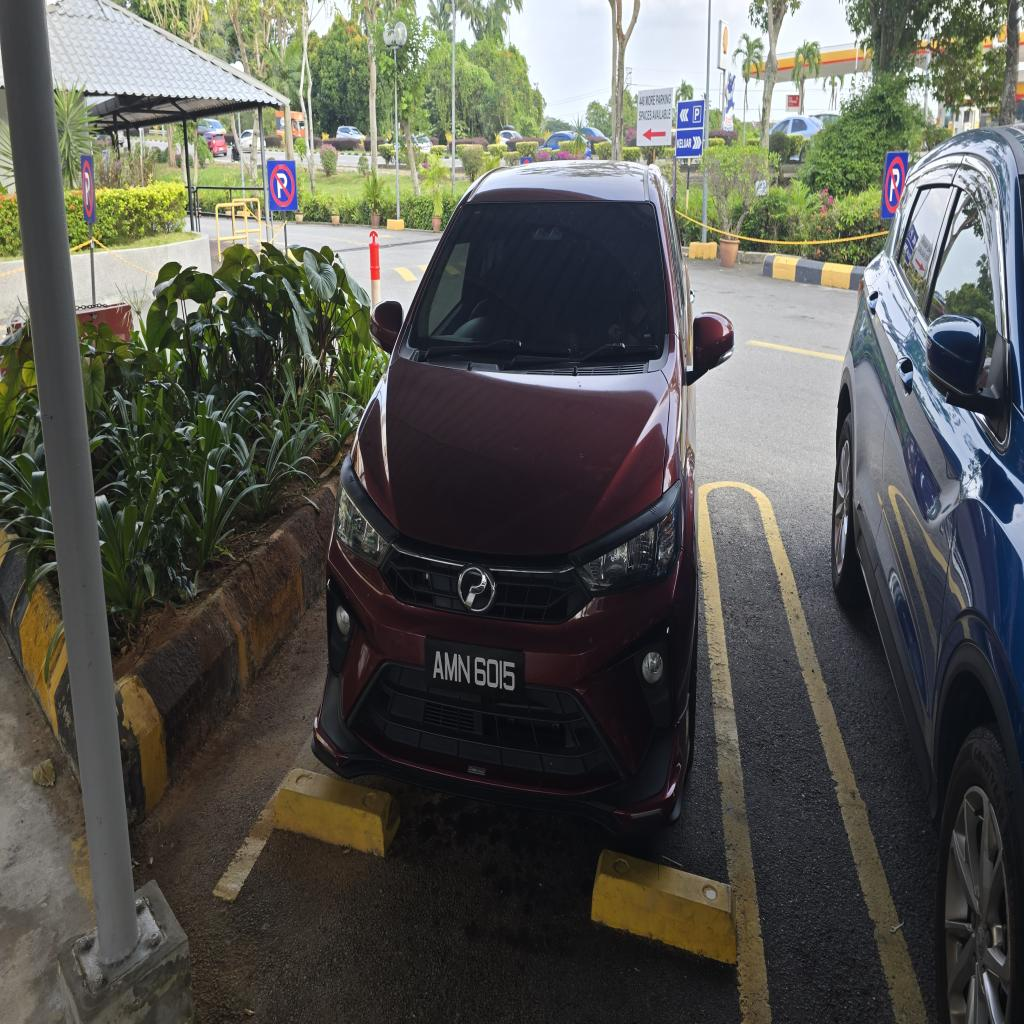car: (313, 164, 733, 831)
car plate: (425, 638, 525, 699)
